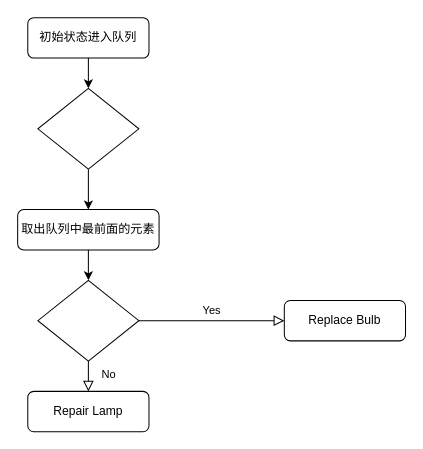
Some shapes in this 423 by 449 pixel diagram are drawn without their labels. Each missing label, with the centre of its shape:
Bulb burned out?: pixel 88 320
队列是否为空: pixel 88 128
